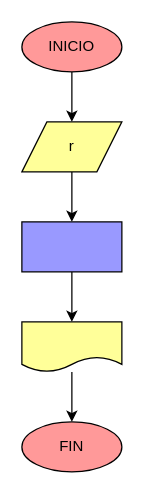
Some shapes in this 144 by 494 pixel diagram are drawn without their labels. Each missing label, with the centre of its shape:
a = π * r ² p = 2 * π * r: point (71, 246)
a, p: point (71, 346)
